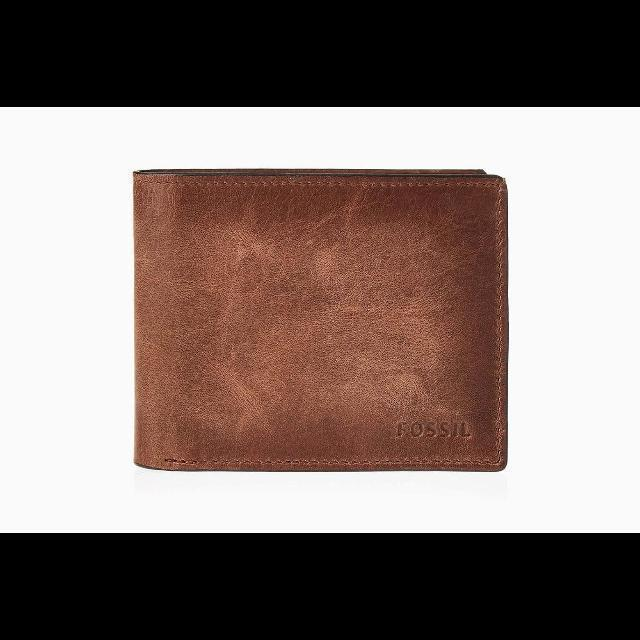wallet: (128, 162, 514, 474)
